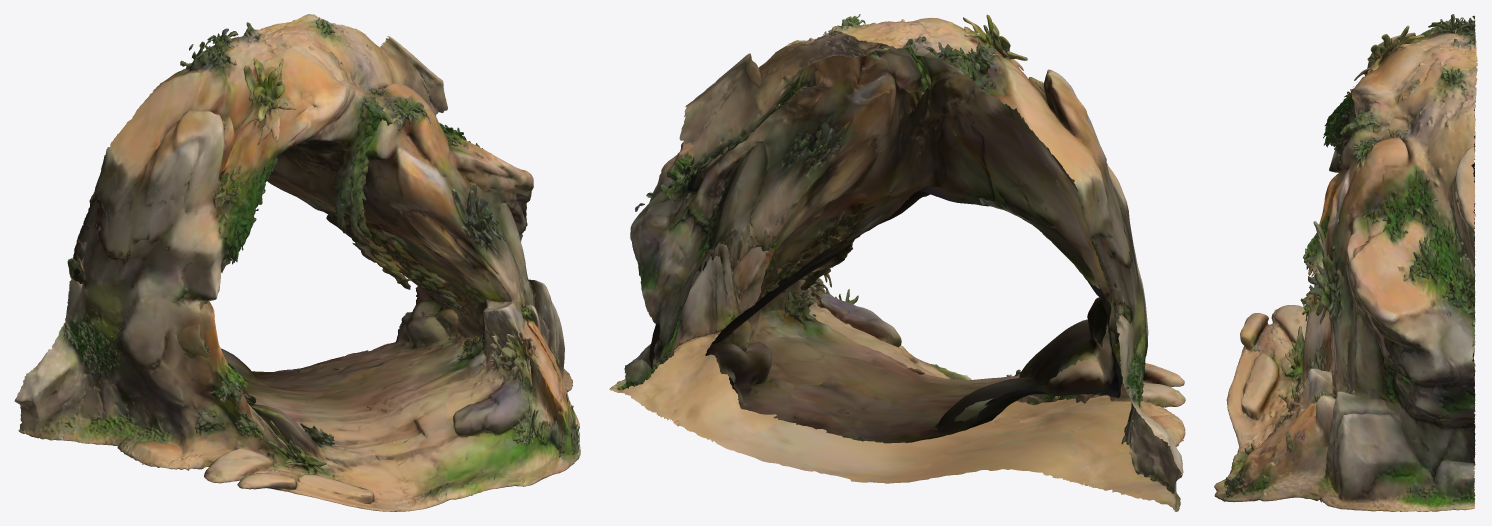
File: cavemouth4.glb
3 views of the same model, side by side, from view 1: azimuth 30°, elevation 25°; view 2: azimuth 150°, elevation 25°; view 3: azimuth 270°, elevation 25° (orthographic). The views are drawn at different scales.
Parts seen in each view (by area): view 1: Mesh_0; view 2: Mesh_0; view 3: Mesh_0.
Part boxes in pixels (x1=…): Mesh_0: x1=14, y1=14, x2=580, y2=511; Mesh_0: x1=609, y1=14, x2=1185, y2=511; Mesh_0: x1=1214, y1=14, x2=1477, y2=511.
Size of the model in its own units: 1.87 by 1.47 by 0.8943.
1 material, 1 textured.
